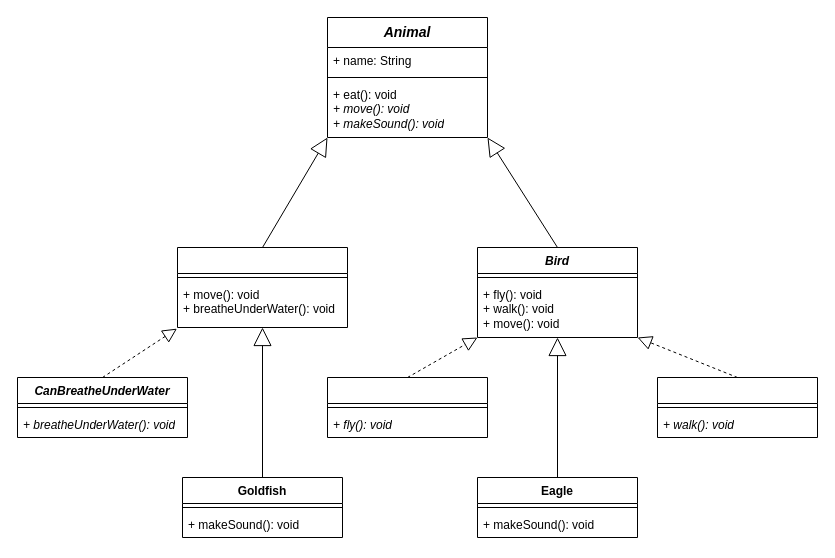
Image size: 835x558. Some labels were removed from this diagram. Here are the shapes that lost their labels. From the top down, the box of each, then its label:
(176, 246, 348, 328): Fish
(326, 376, 488, 438): CanFly
(656, 376, 818, 438): CanWalk
